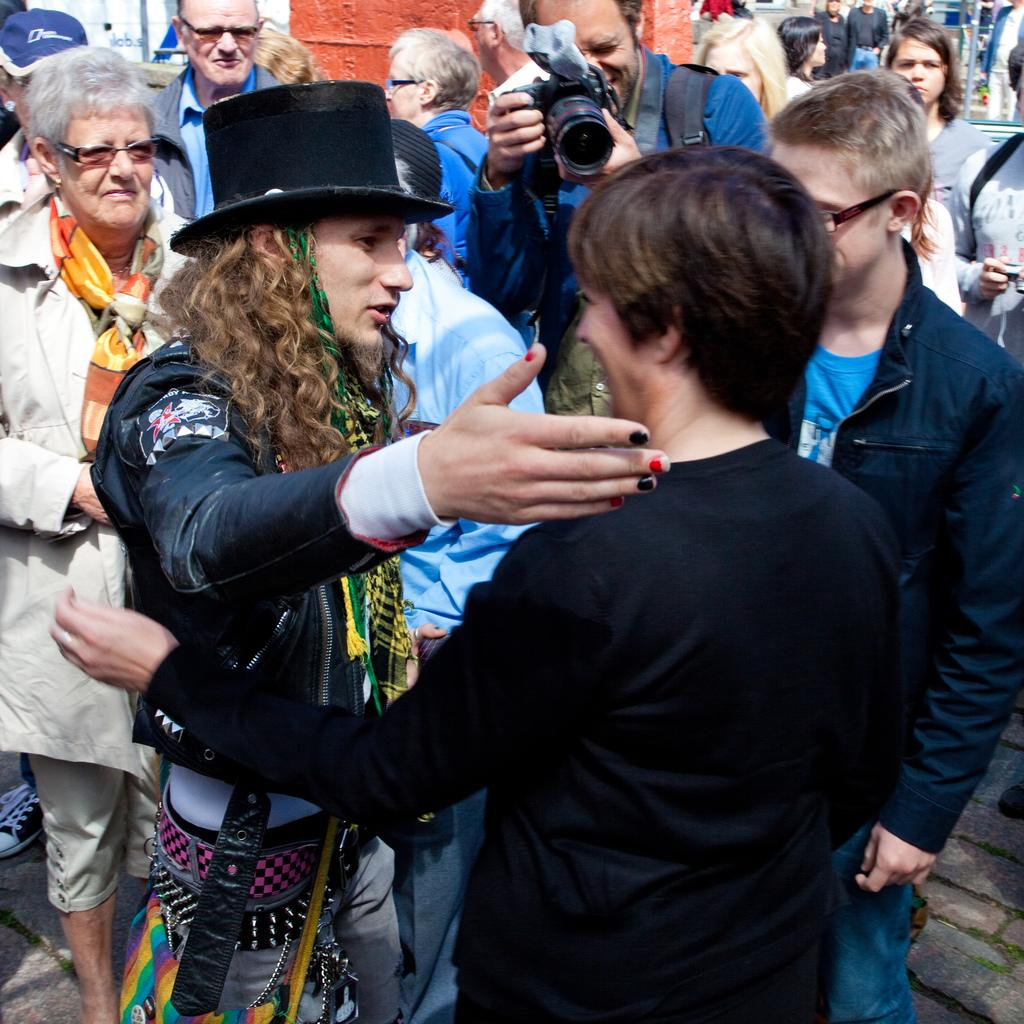Hat: (169, 72, 449, 268), (0, 6, 84, 78)
